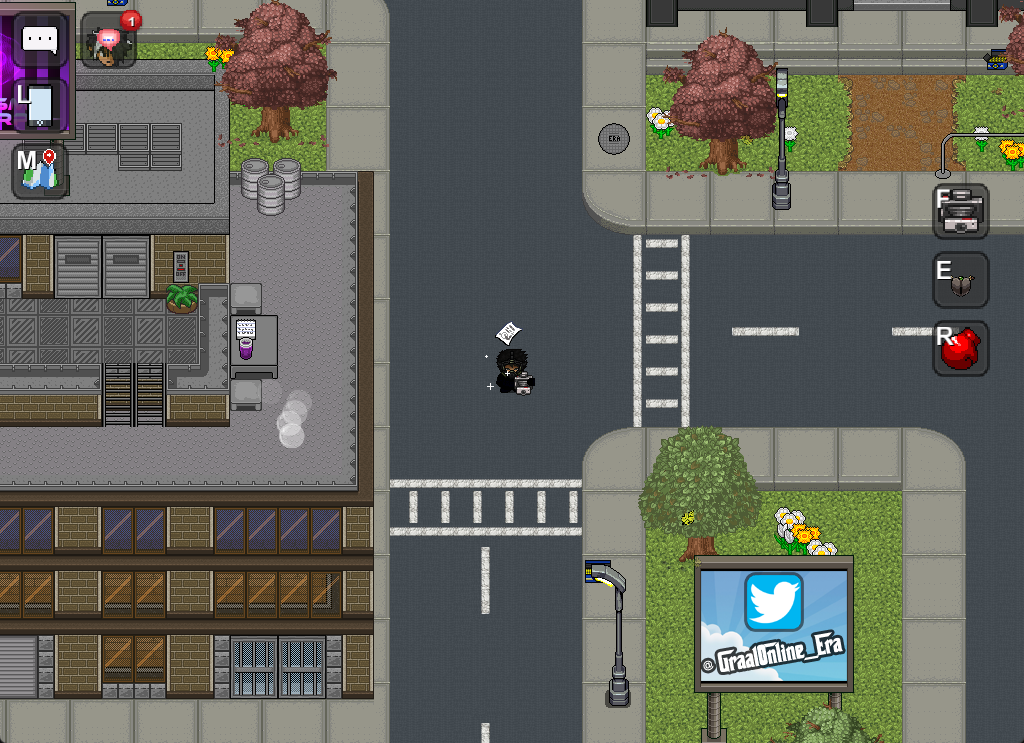era_rima-jobs-trash-paper: (493, 317, 525, 349)
